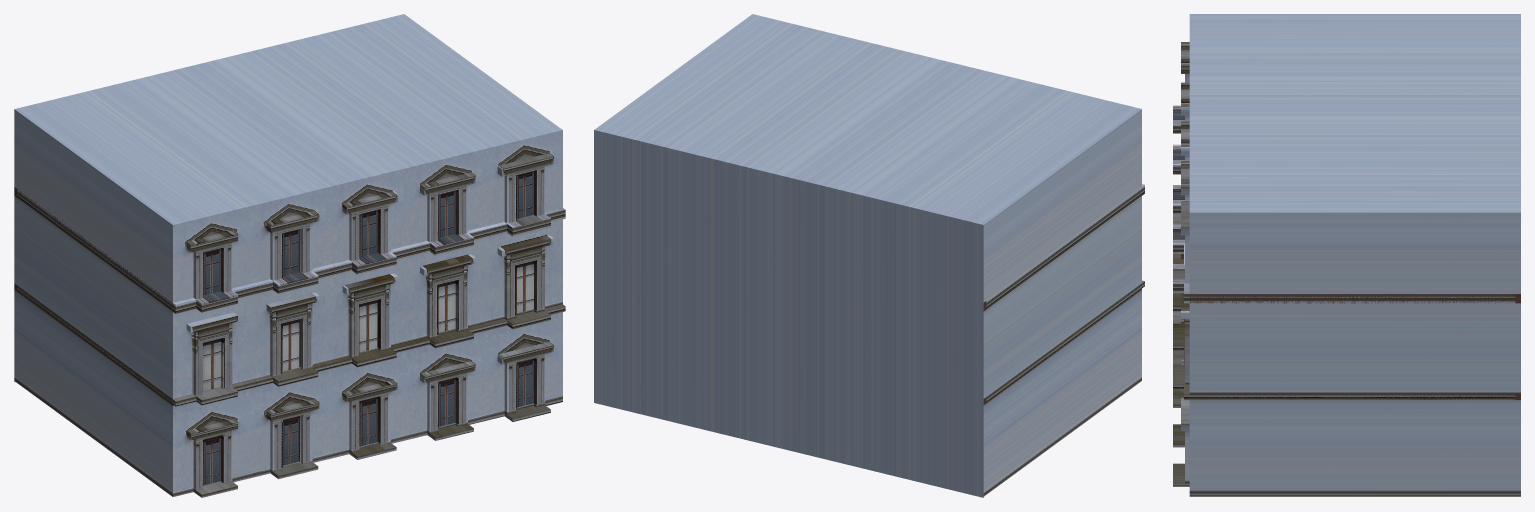
Rendered from level1bina1.fbx.
3 views of the same model, side by side, from view 1: azimuth 30°, elevation 25°; view 2: azimuth 150°, elevation 25°; view 3: azimuth 270°, elevation 25° (orthographic). The views are drawn at different scales.
Visible parts, largest first — view 1: 41_old building texture-seamless; view 2: 41_old building texture-seamless; view 3: 41_old building texture-seamless.
Part boxes in pixels (box(x1,y1,x2,y2)): 41_old building texture-seamless: box(14, 14, 565, 497); 41_old building texture-seamless: box(594, 14, 1144, 497); 41_old building texture-seamless: box(1173, 14, 1520, 496).
Bounding box in the file's own units: 1285 × 860 × 951.
